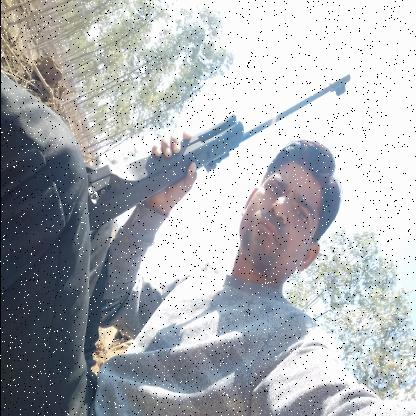rifle: (82, 72, 354, 236)
